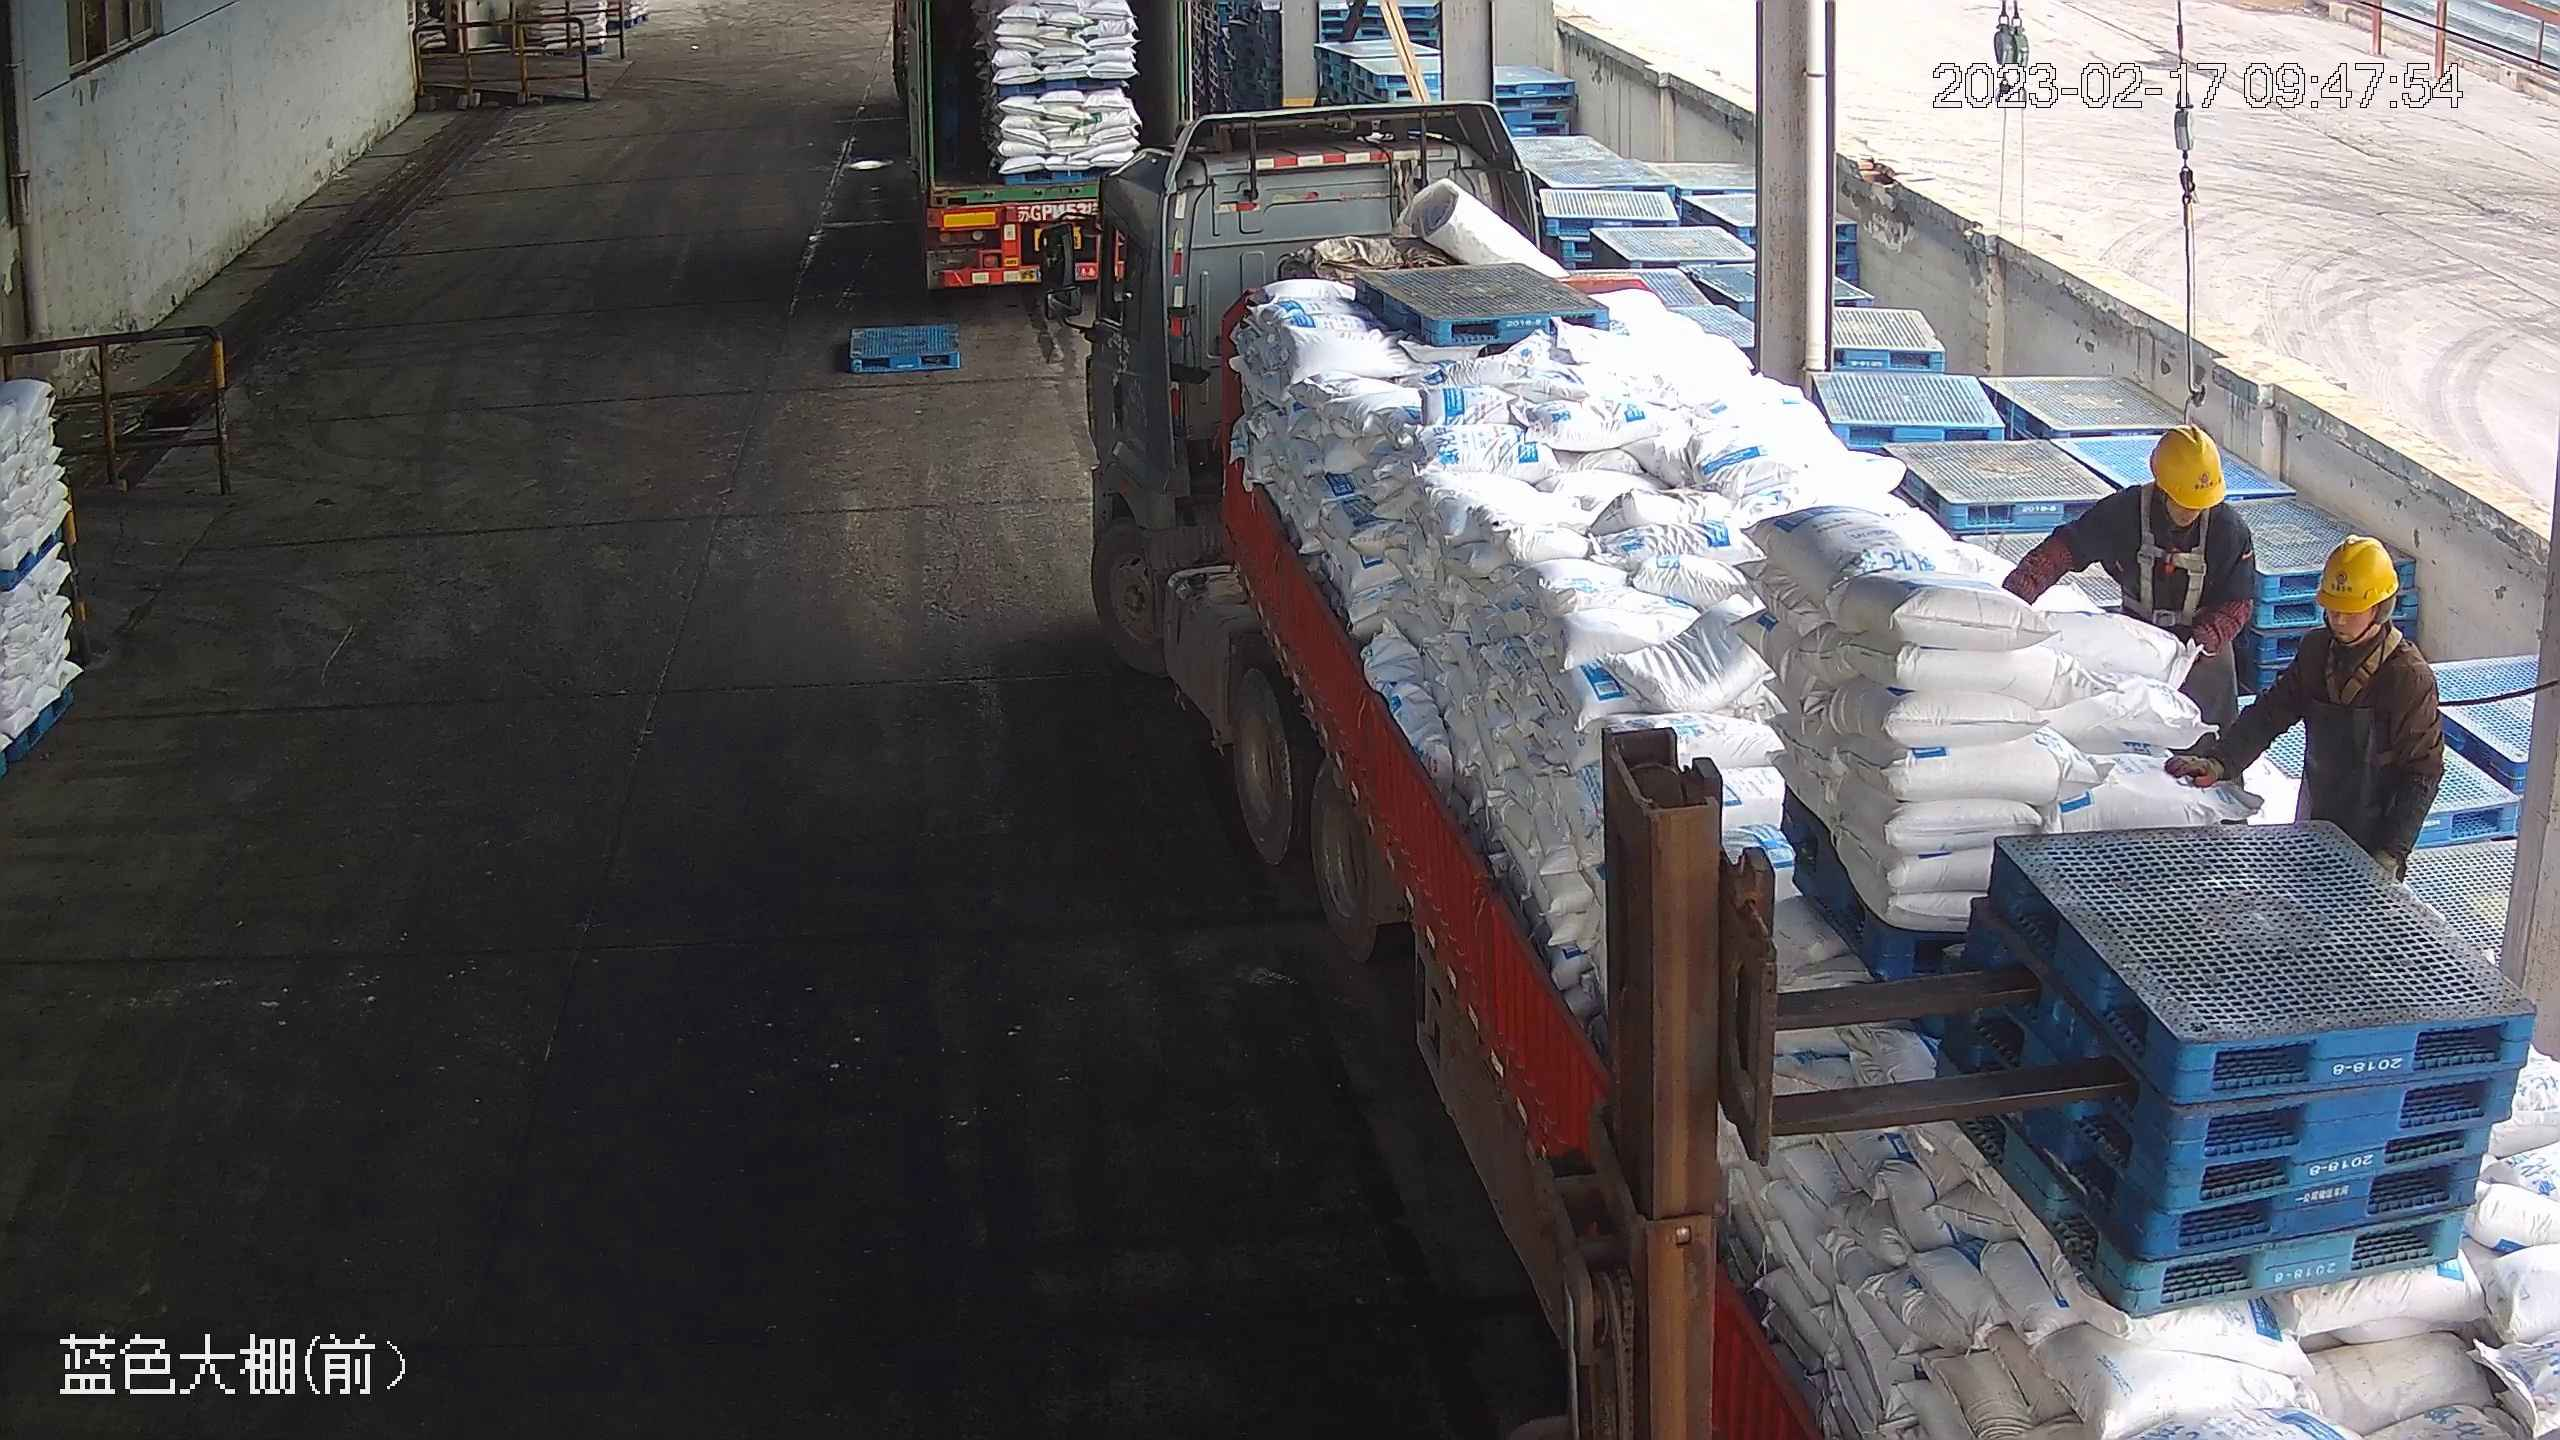belt: (2133, 505, 2209, 615), (2315, 624, 2408, 702)
head: (2275, 529, 2431, 699), (2089, 418, 2249, 567)
helmet: (2146, 417, 2240, 514), (2309, 526, 2402, 614)
people: (2161, 527, 2443, 893)
truck: (1073, 103, 2559, 1437), (880, 1, 1202, 306)
